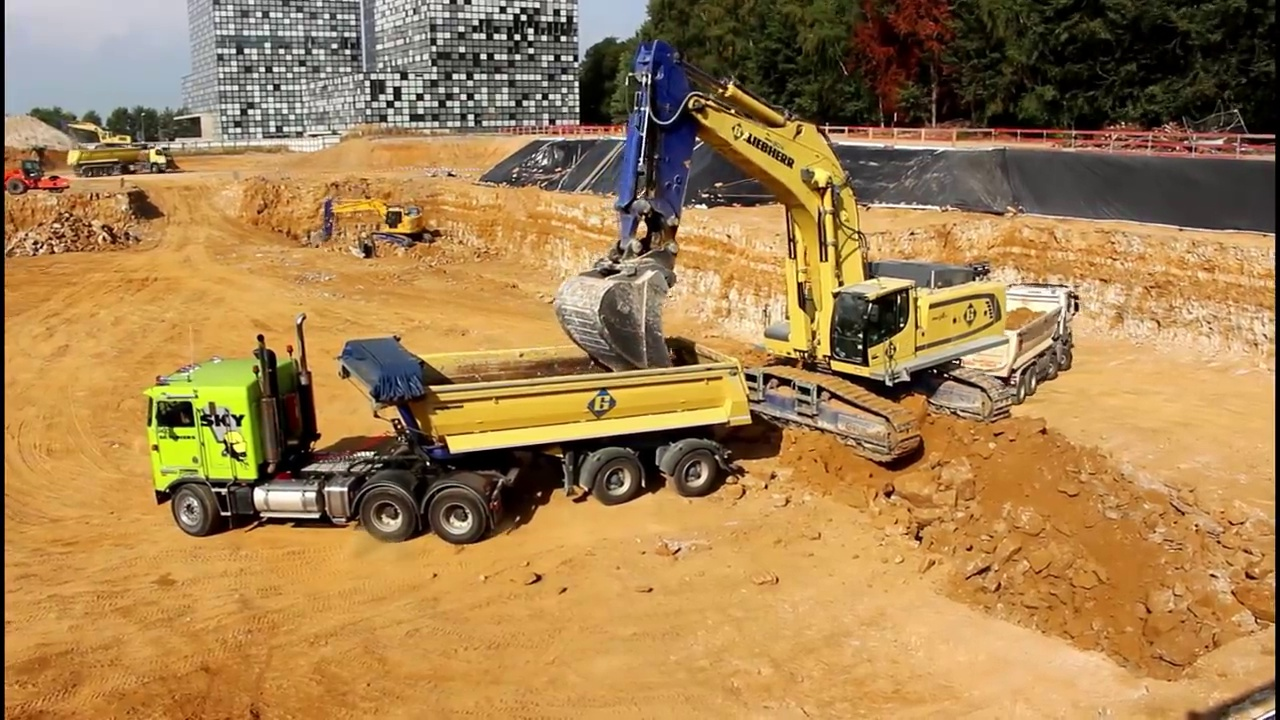excavator: (556, 39, 1013, 463), (310, 195, 438, 257), (65, 116, 134, 145)
truck: (146, 314, 758, 539), (953, 279, 1082, 402), (70, 145, 177, 173)
